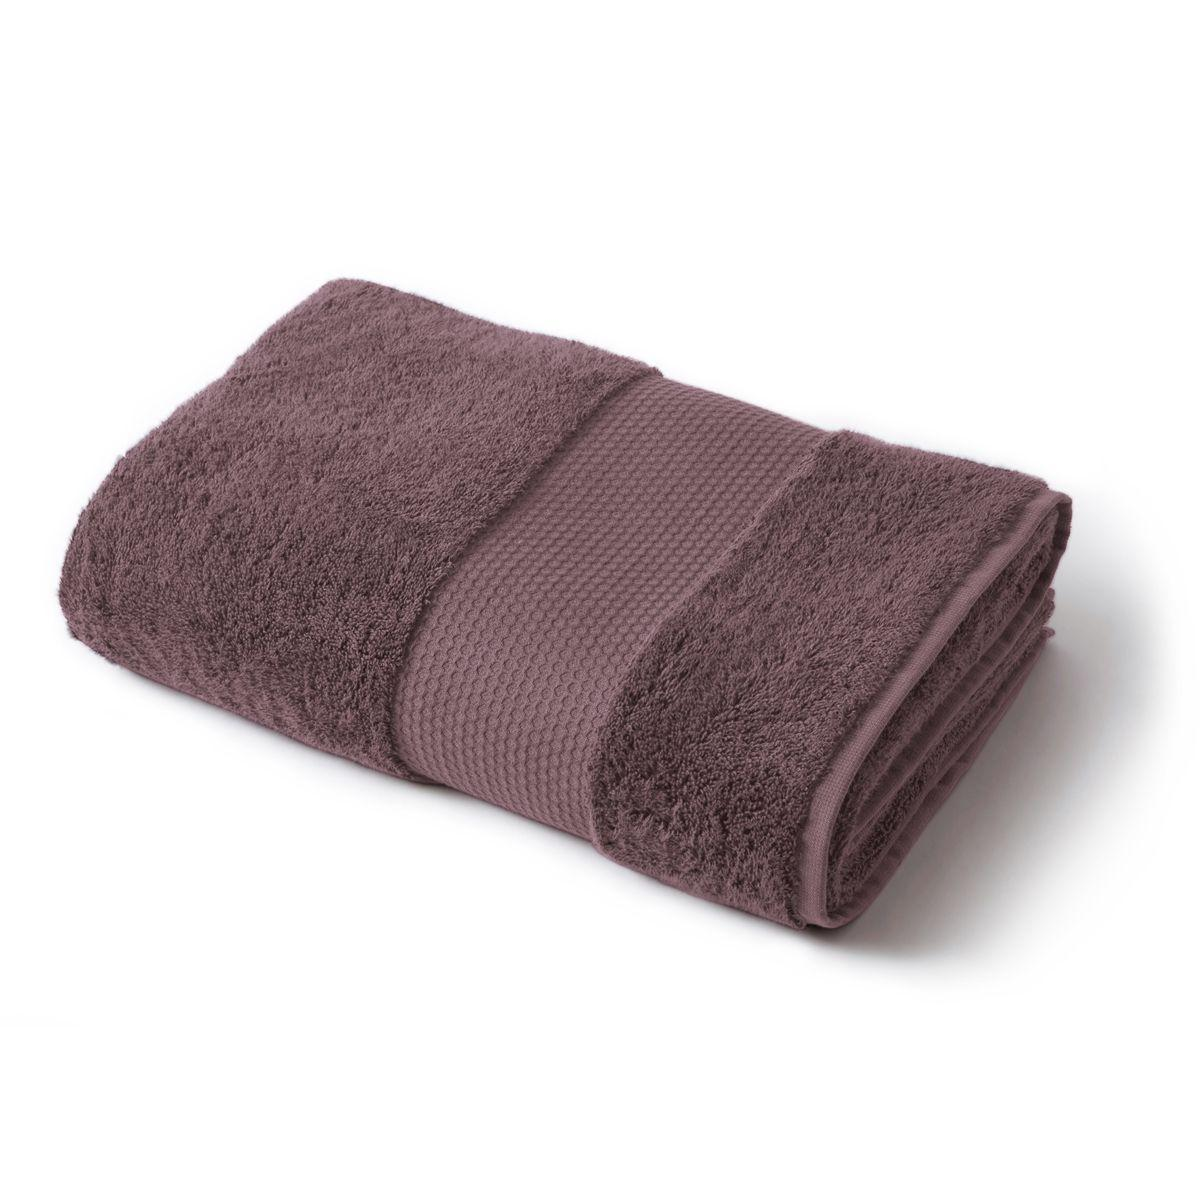towel: (30, 237, 1147, 947)
